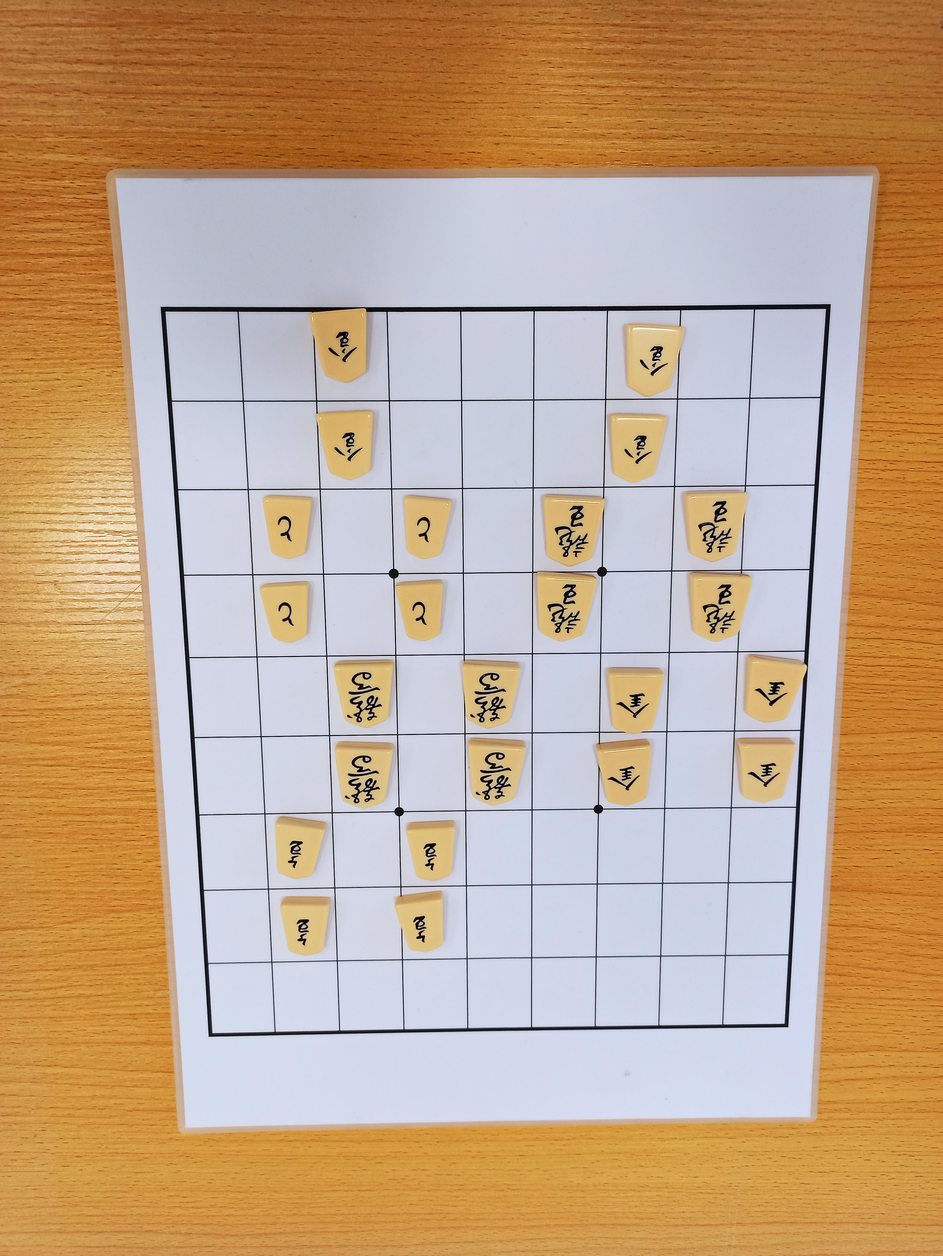board: (163, 306, 827, 1037)
